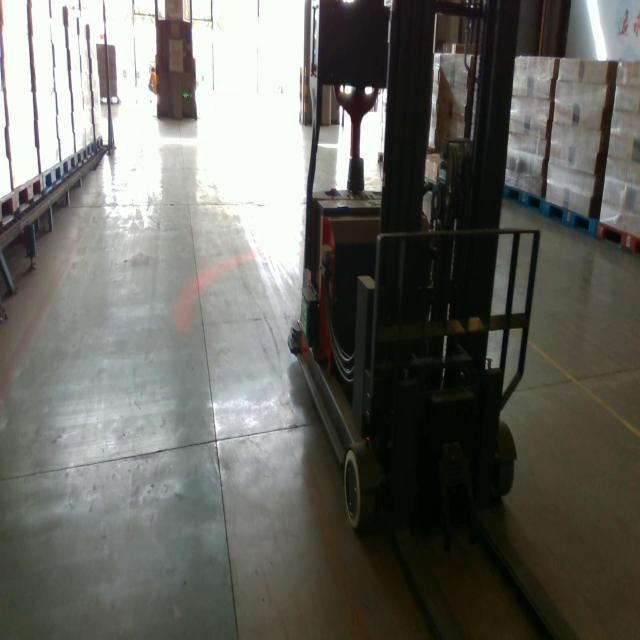forklift: (288, 0, 578, 640)
